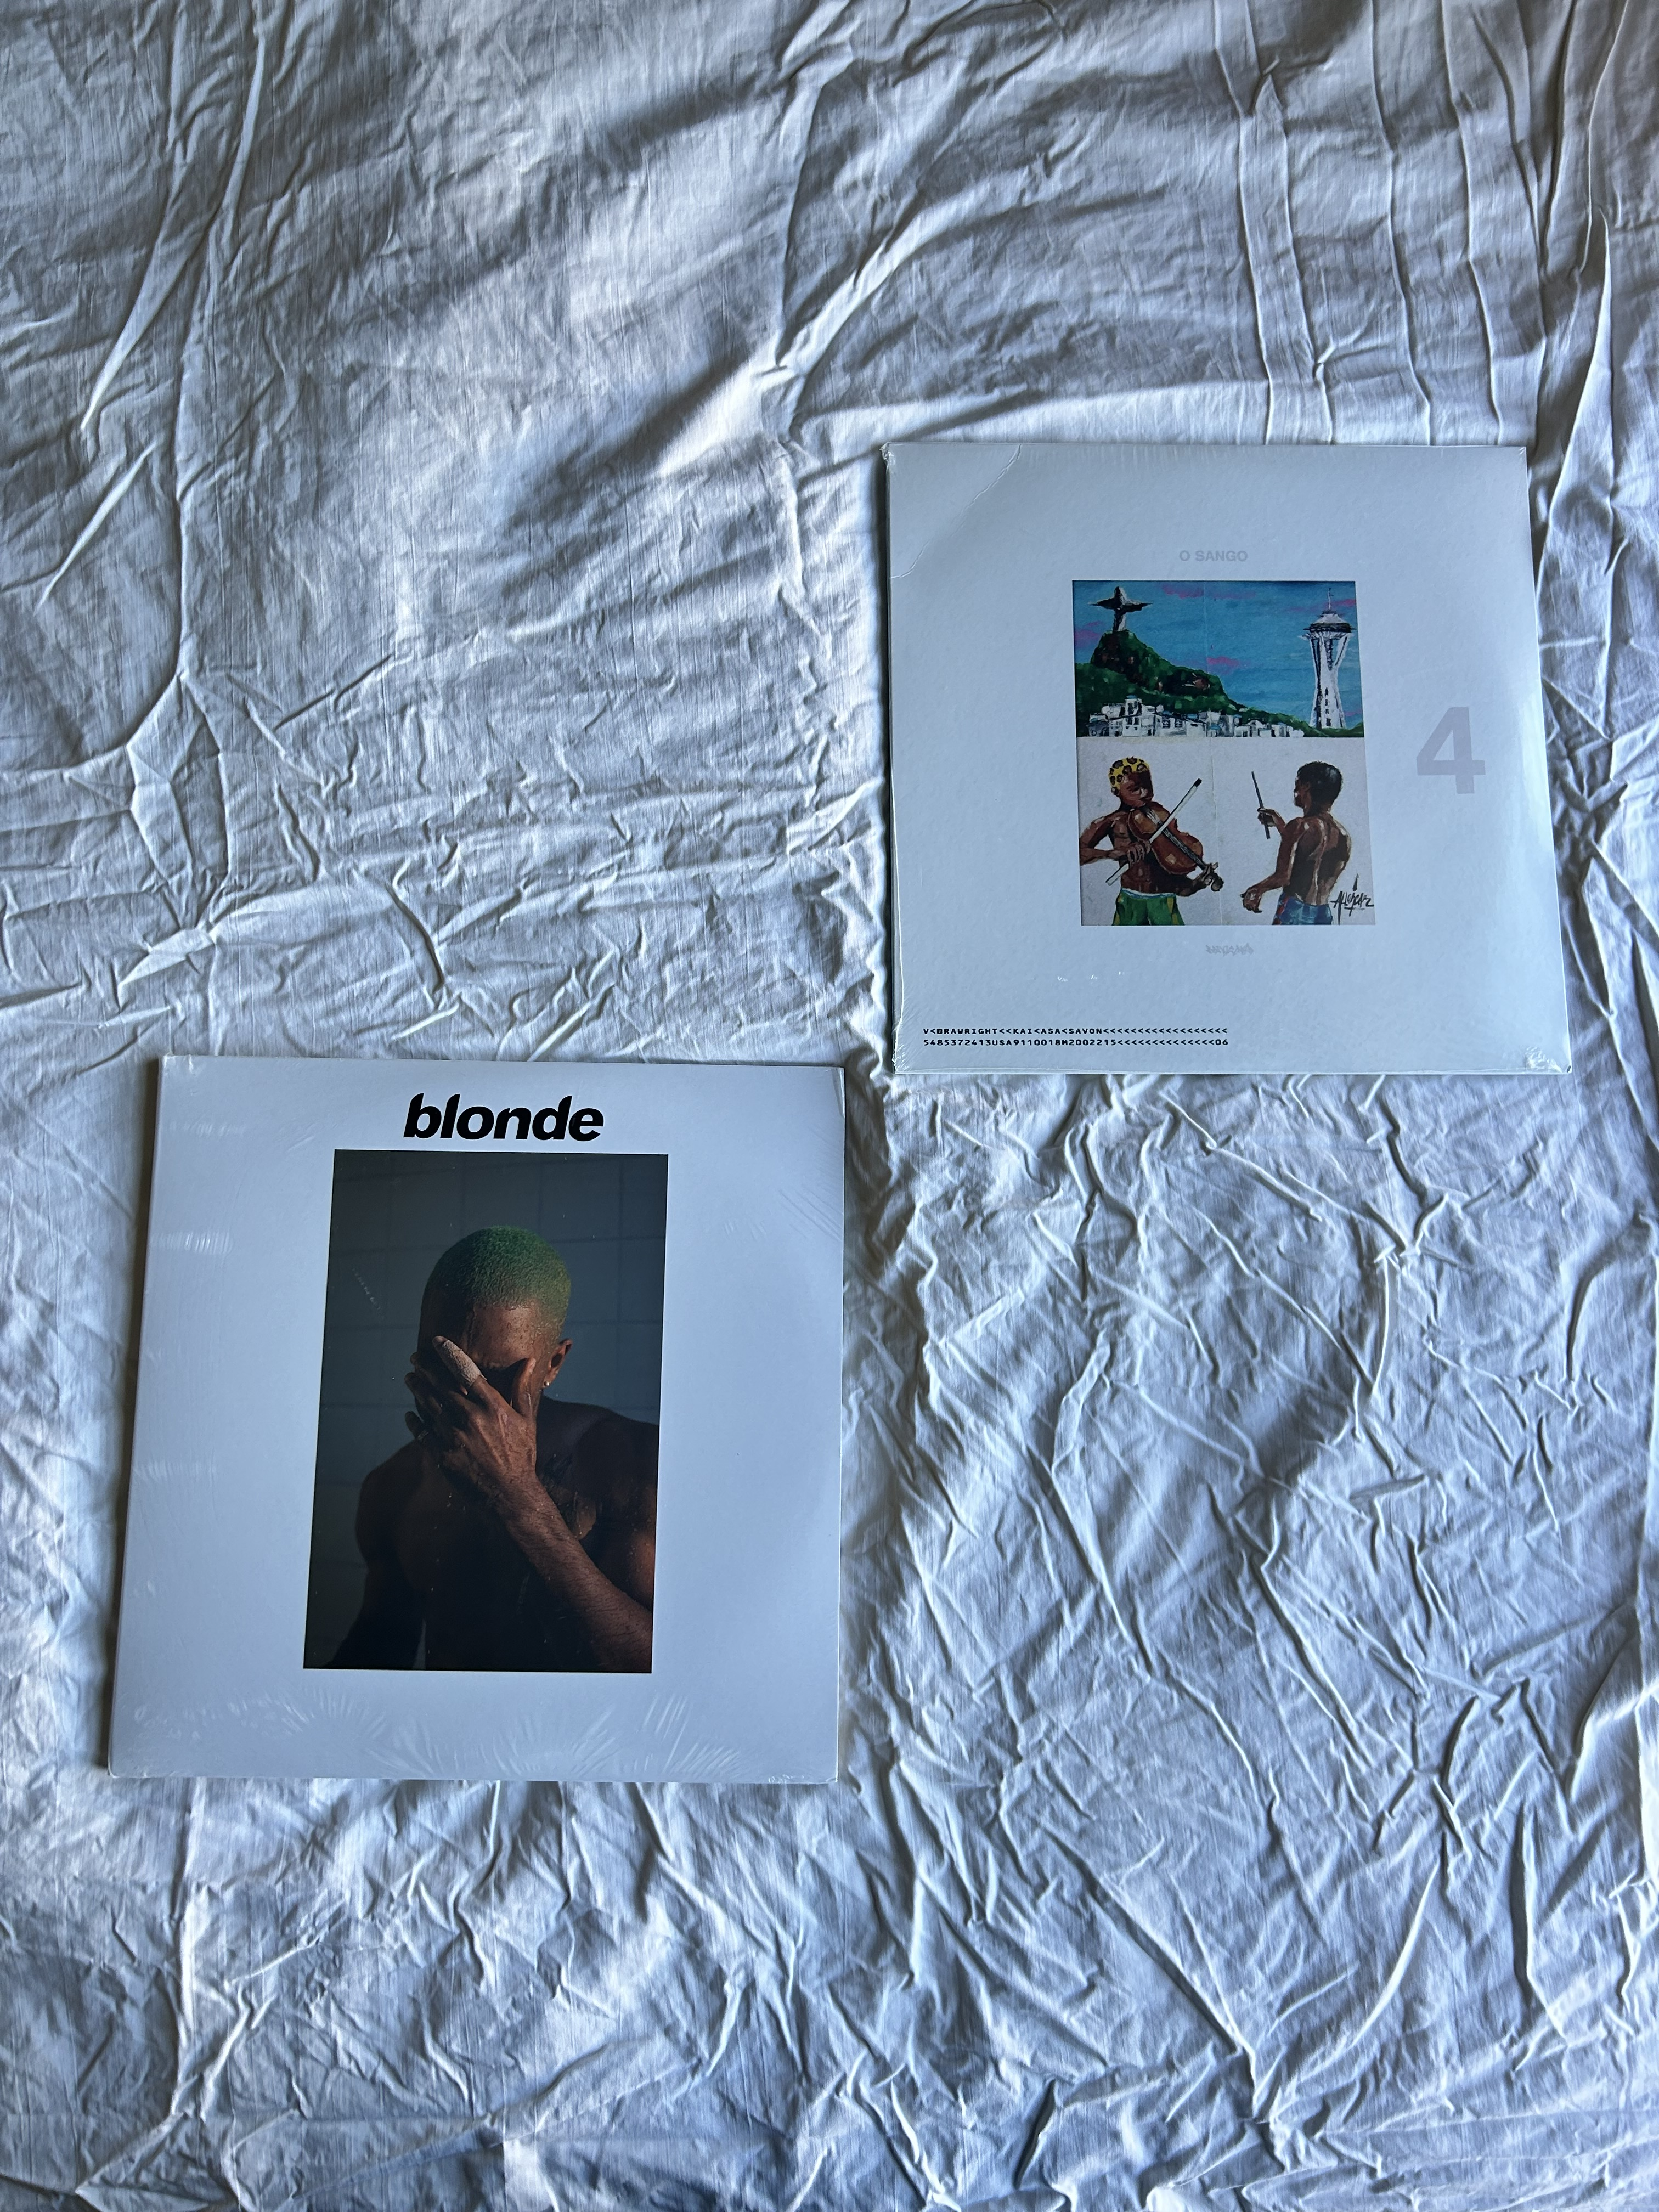frank ocean_blonde: (105, 1059, 838, 1777)
sango_da rocinha 4: (878, 444, 1579, 1073)
